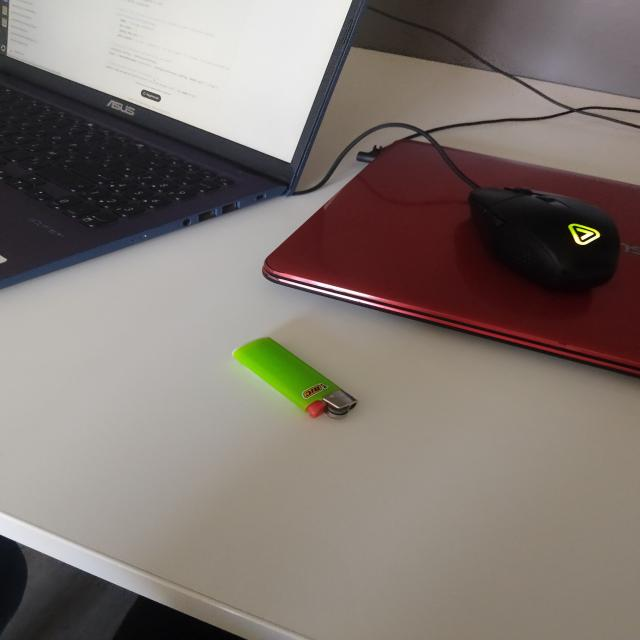lighter: (230, 337, 361, 420)
